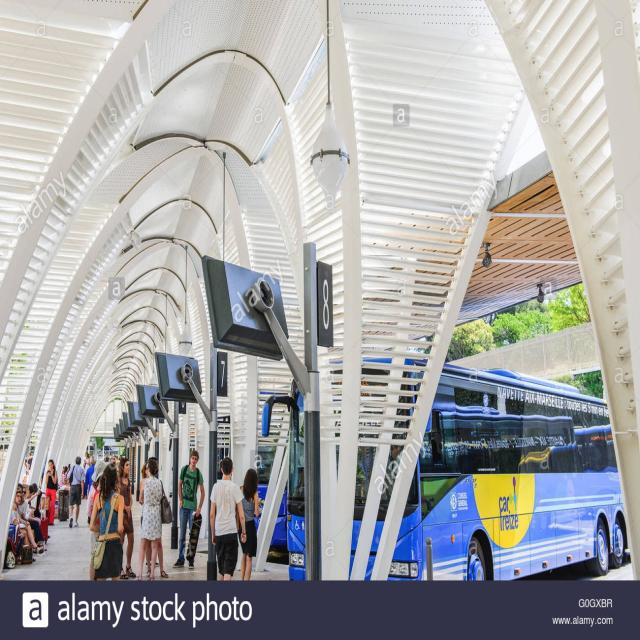body: (5, 446, 99, 548), (208, 457, 248, 581), (88, 462, 127, 582), (171, 448, 207, 572), (139, 459, 170, 578), (140, 460, 169, 580), (234, 467, 262, 581), (85, 460, 108, 582), (9, 489, 45, 563), (116, 457, 137, 579), (145, 456, 160, 566), (98, 450, 132, 498), (66, 454, 84, 529), (44, 458, 59, 526), (84, 454, 98, 525), (17, 486, 31, 522), (84, 456, 92, 494), (59, 466, 70, 489)
